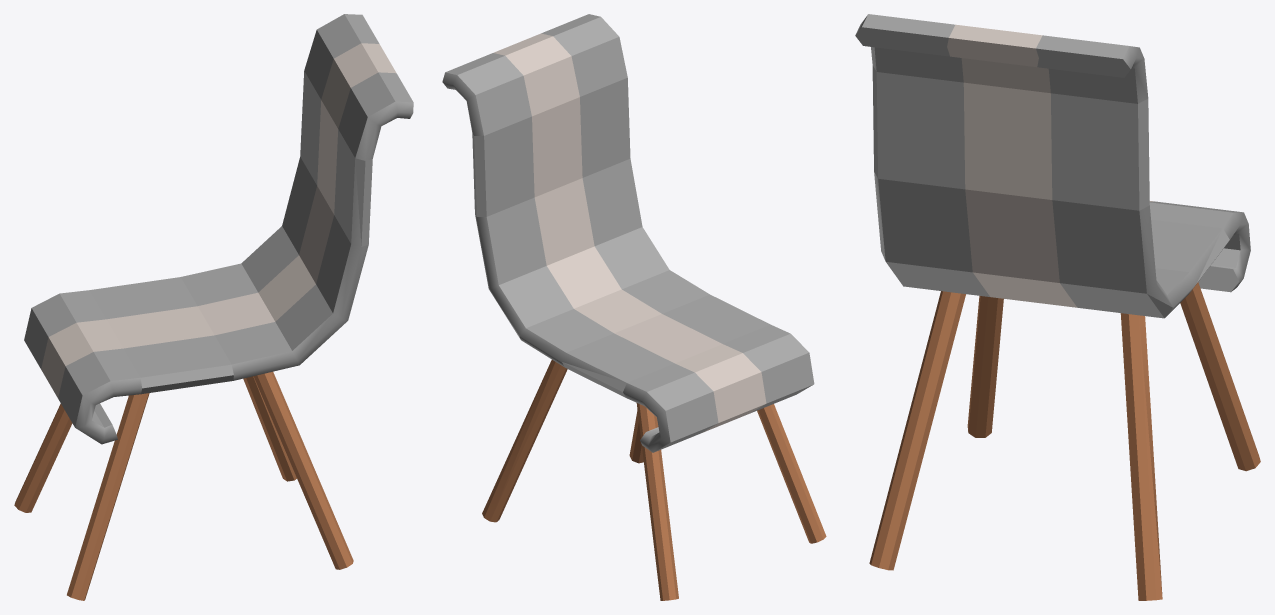
Rendered from o3_sedia_cucina_2.glb.
The picture shows the model from 3 angles, left to right: view 1: azimuth 30°, elevation 25°; view 2: azimuth 150°, elevation 25°; view 3: azimuth 270°, elevation 25°; orthographic projection. The views are drawn at different scales.
Visible parts, largest first — view 1: sb_modello; view 2: sb_modello; view 3: sb_modello.
Boxes of the visible parts, x1,y1,x2,y2 form: sb_modello: (14, 14, 413, 600); sb_modello: (442, 14, 826, 600); sb_modello: (855, 14, 1260, 600).
Bounding box in the file's own units: 0.7119 × 0.9 × 0.5598.
1 material, 1 textured.
